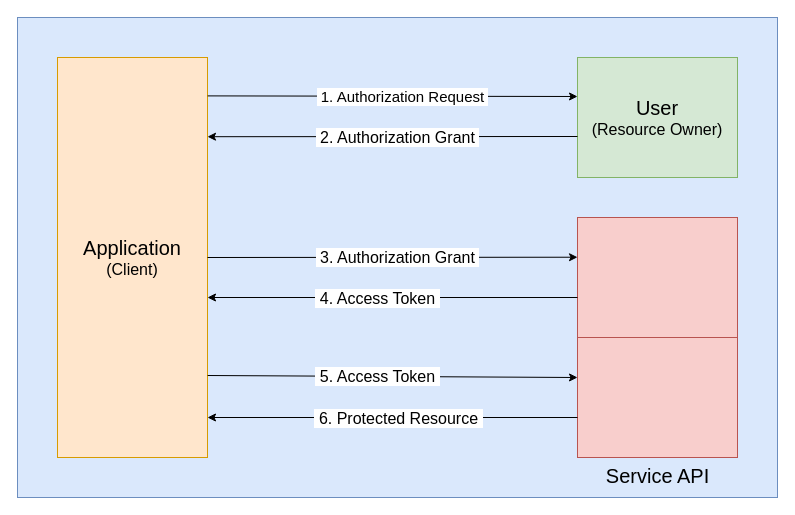
Image size: 795x515. Some labels were removed from this diagram. The shapes that lost their labels are listed below. From the top down, each one's centre as x and y in pixels, then its label:
point (657, 277): Authorization Server
point (657, 397): Resource Server
